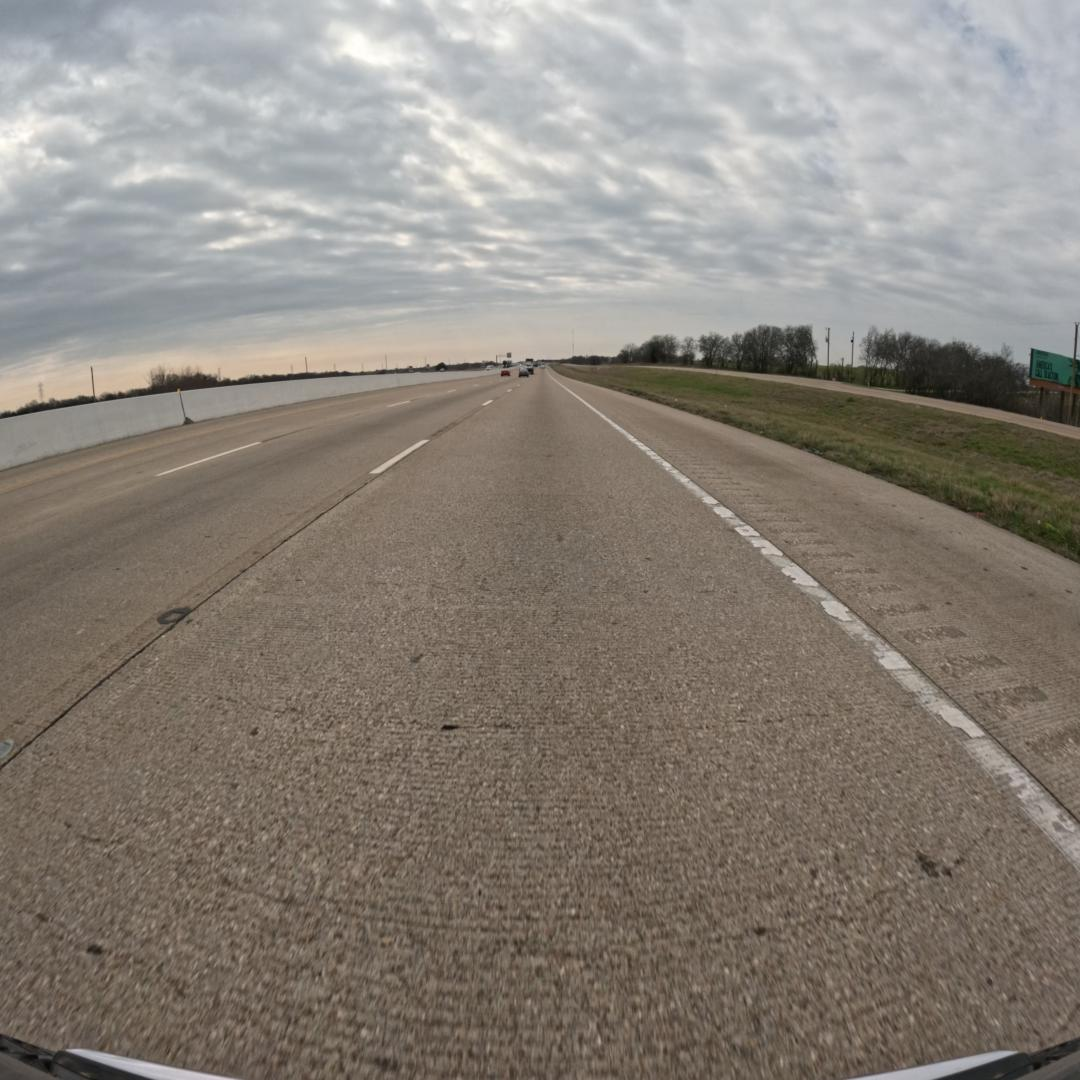lane0: (0, 374, 1080, 1076)
lane1: (0, 380, 519, 764)
